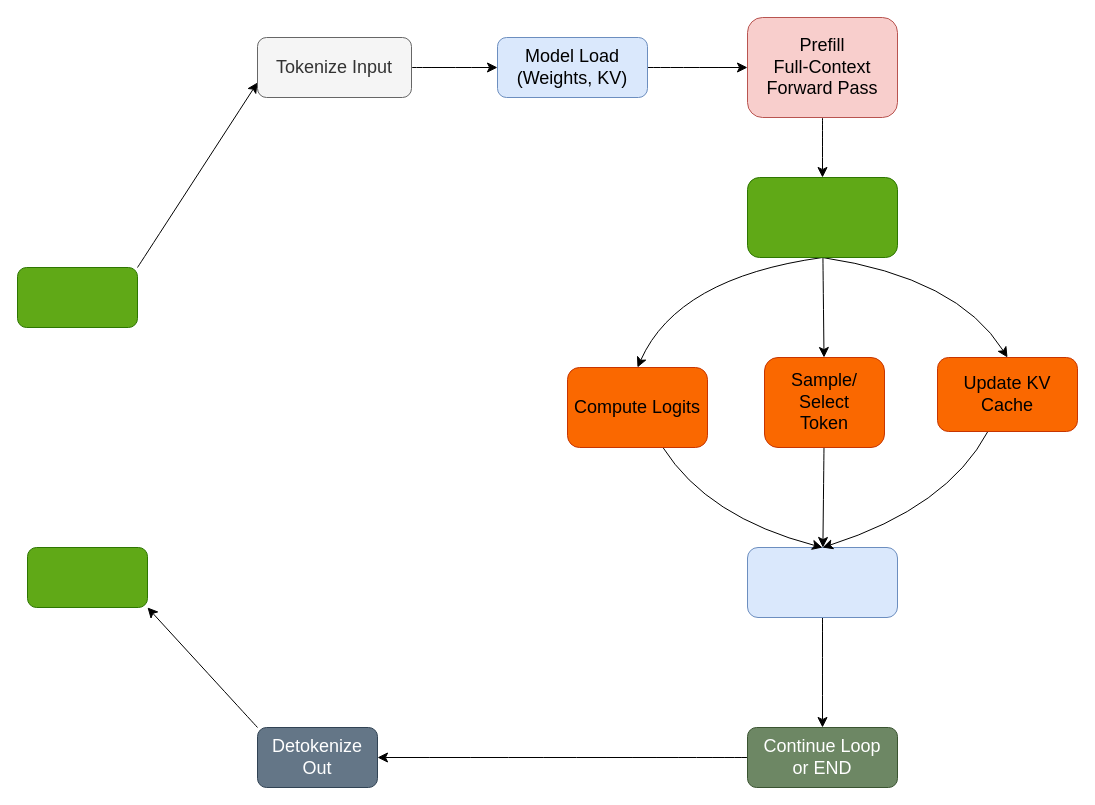
Image size: 1095x805. Some labels were removed from this diagram. The centre of each missing label's shape, as x and y in pixels:
Check Stopping (EOS / limts): the point at 822,582
Decode Loop last-token pass: the point at 822,217
Response: the point at 87,577
Start Qwery: the point at 77,297
